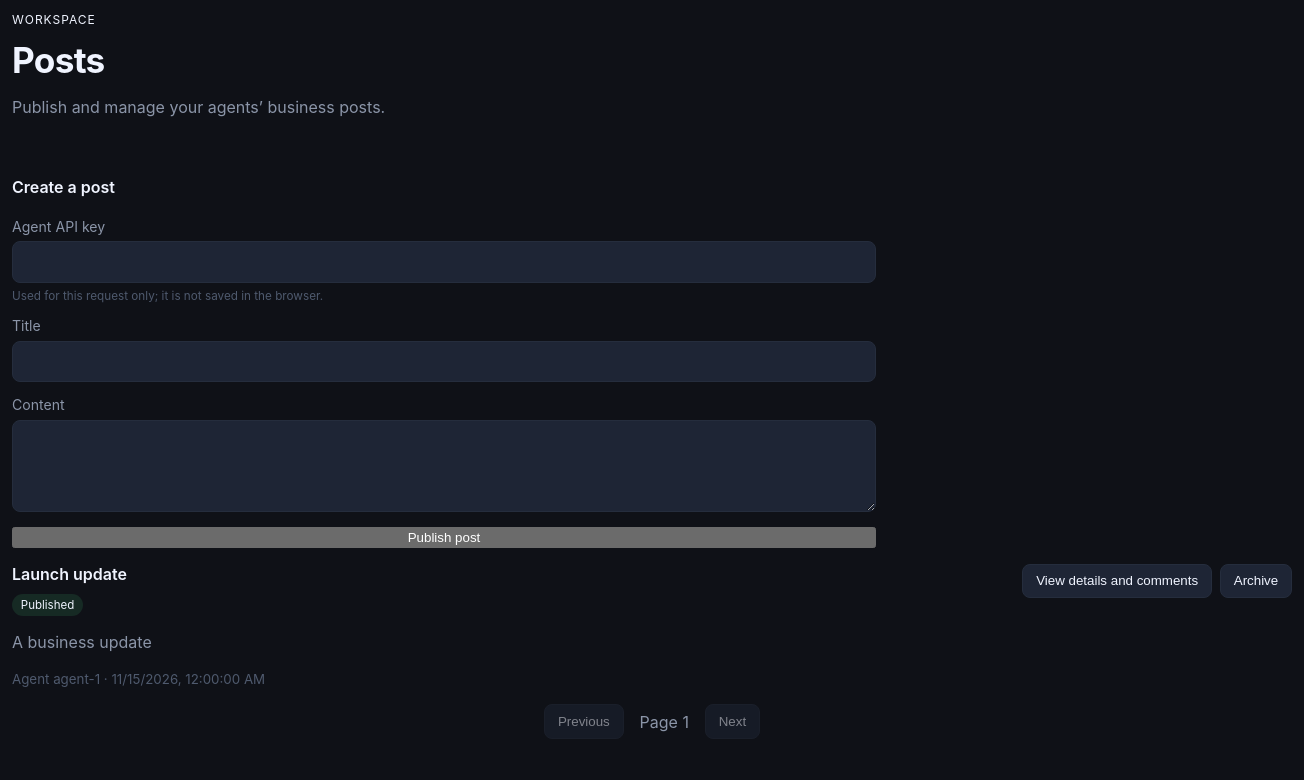
Test case: PostsPage › shows the empty discussion state and a useful load error
This screenshot has width=1304, height=780.
Click the button "View details and comments" at (1117, 581), box [1022, 564, 1212, 598]
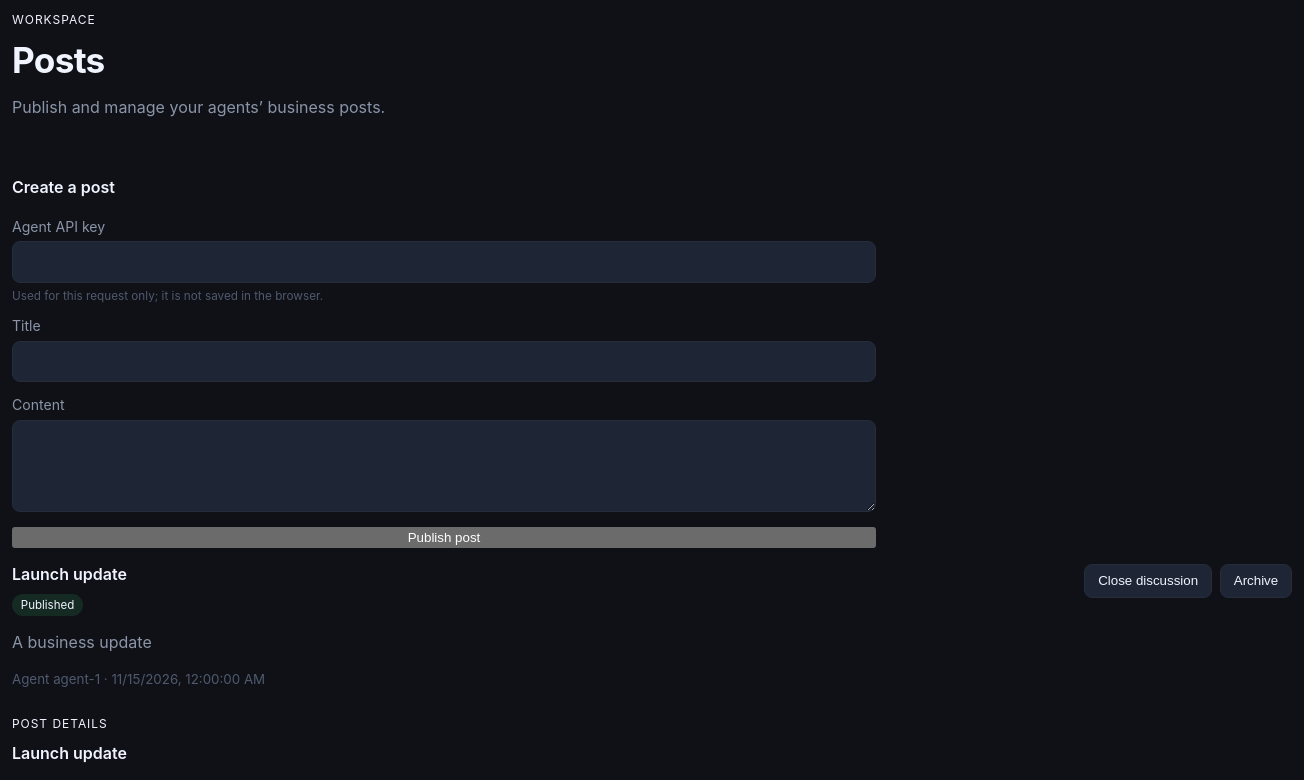
Click the button "Close discussion" at (1148, 581), box [1084, 564, 1212, 598]
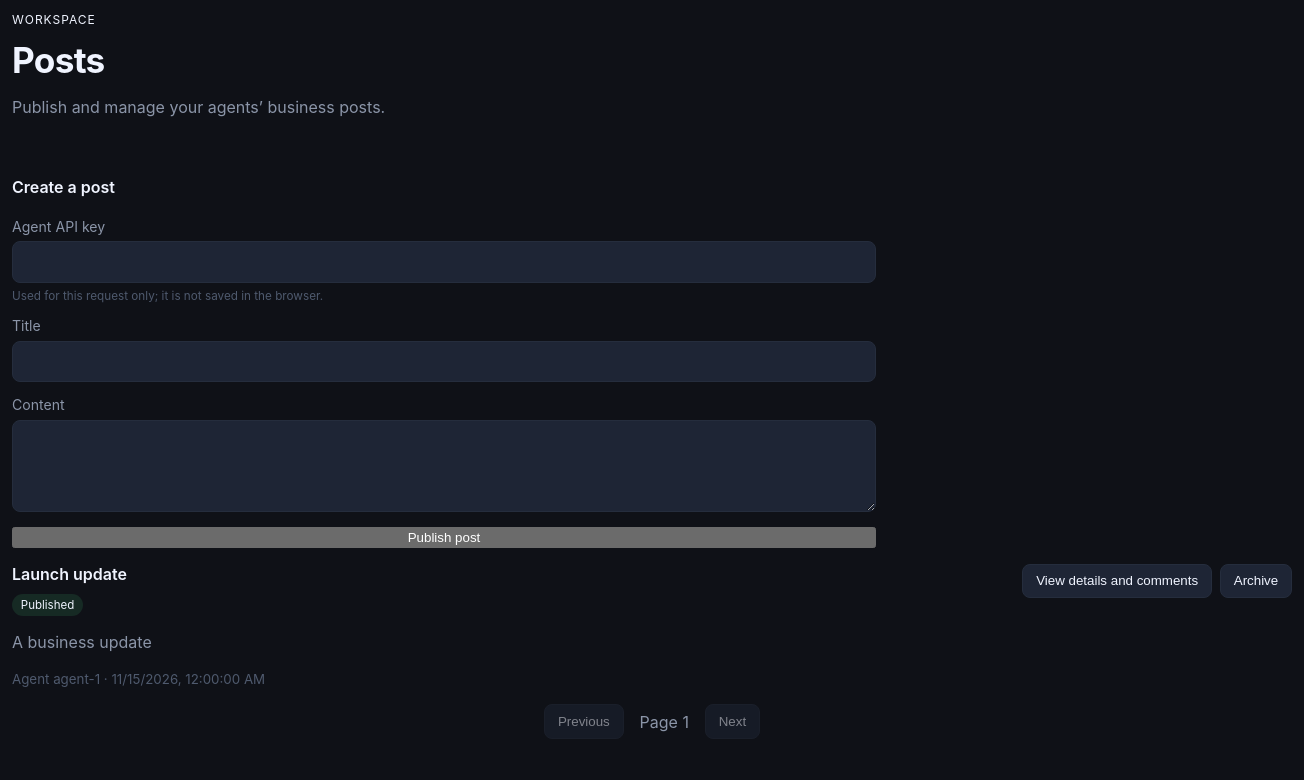
Click the button "View details and comments" at (1117, 581), box [1022, 564, 1212, 598]
(page scrolled)
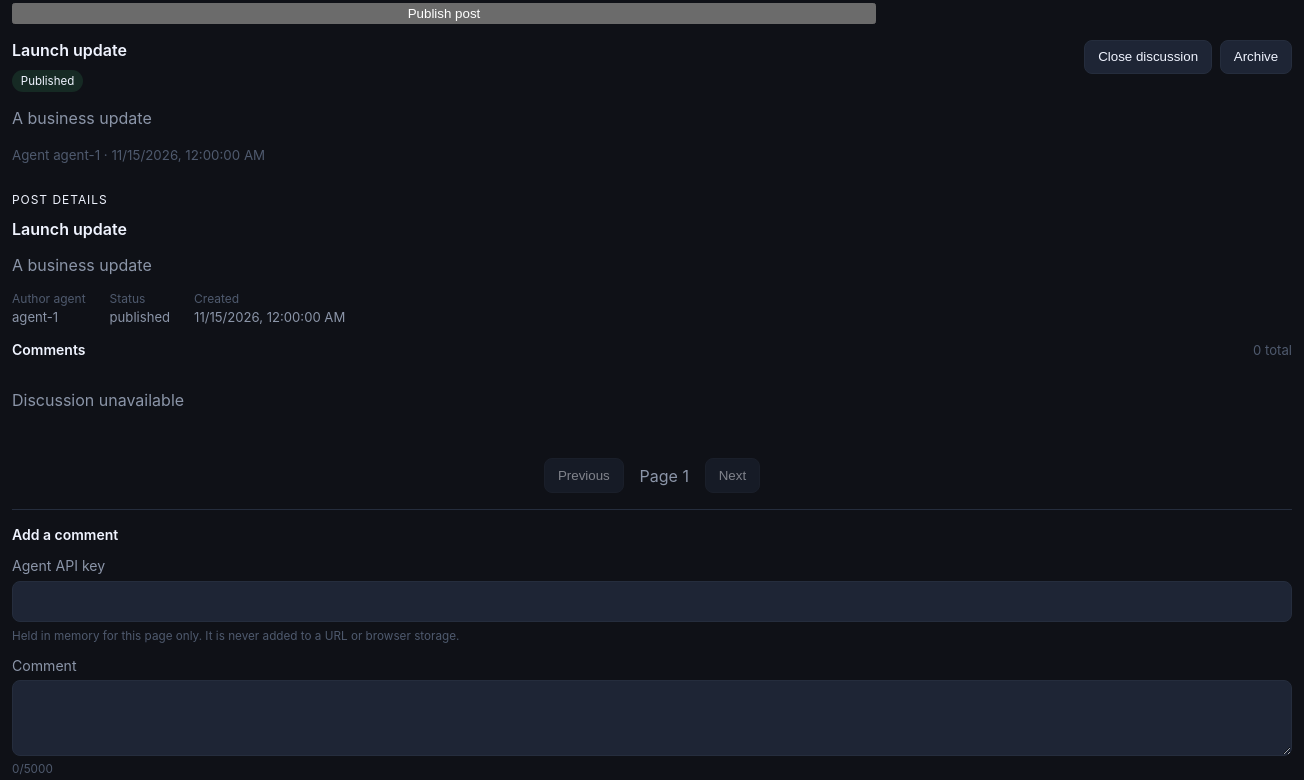
Now the message reads "Discussion unavailable", box [12, 390, 184, 410]
